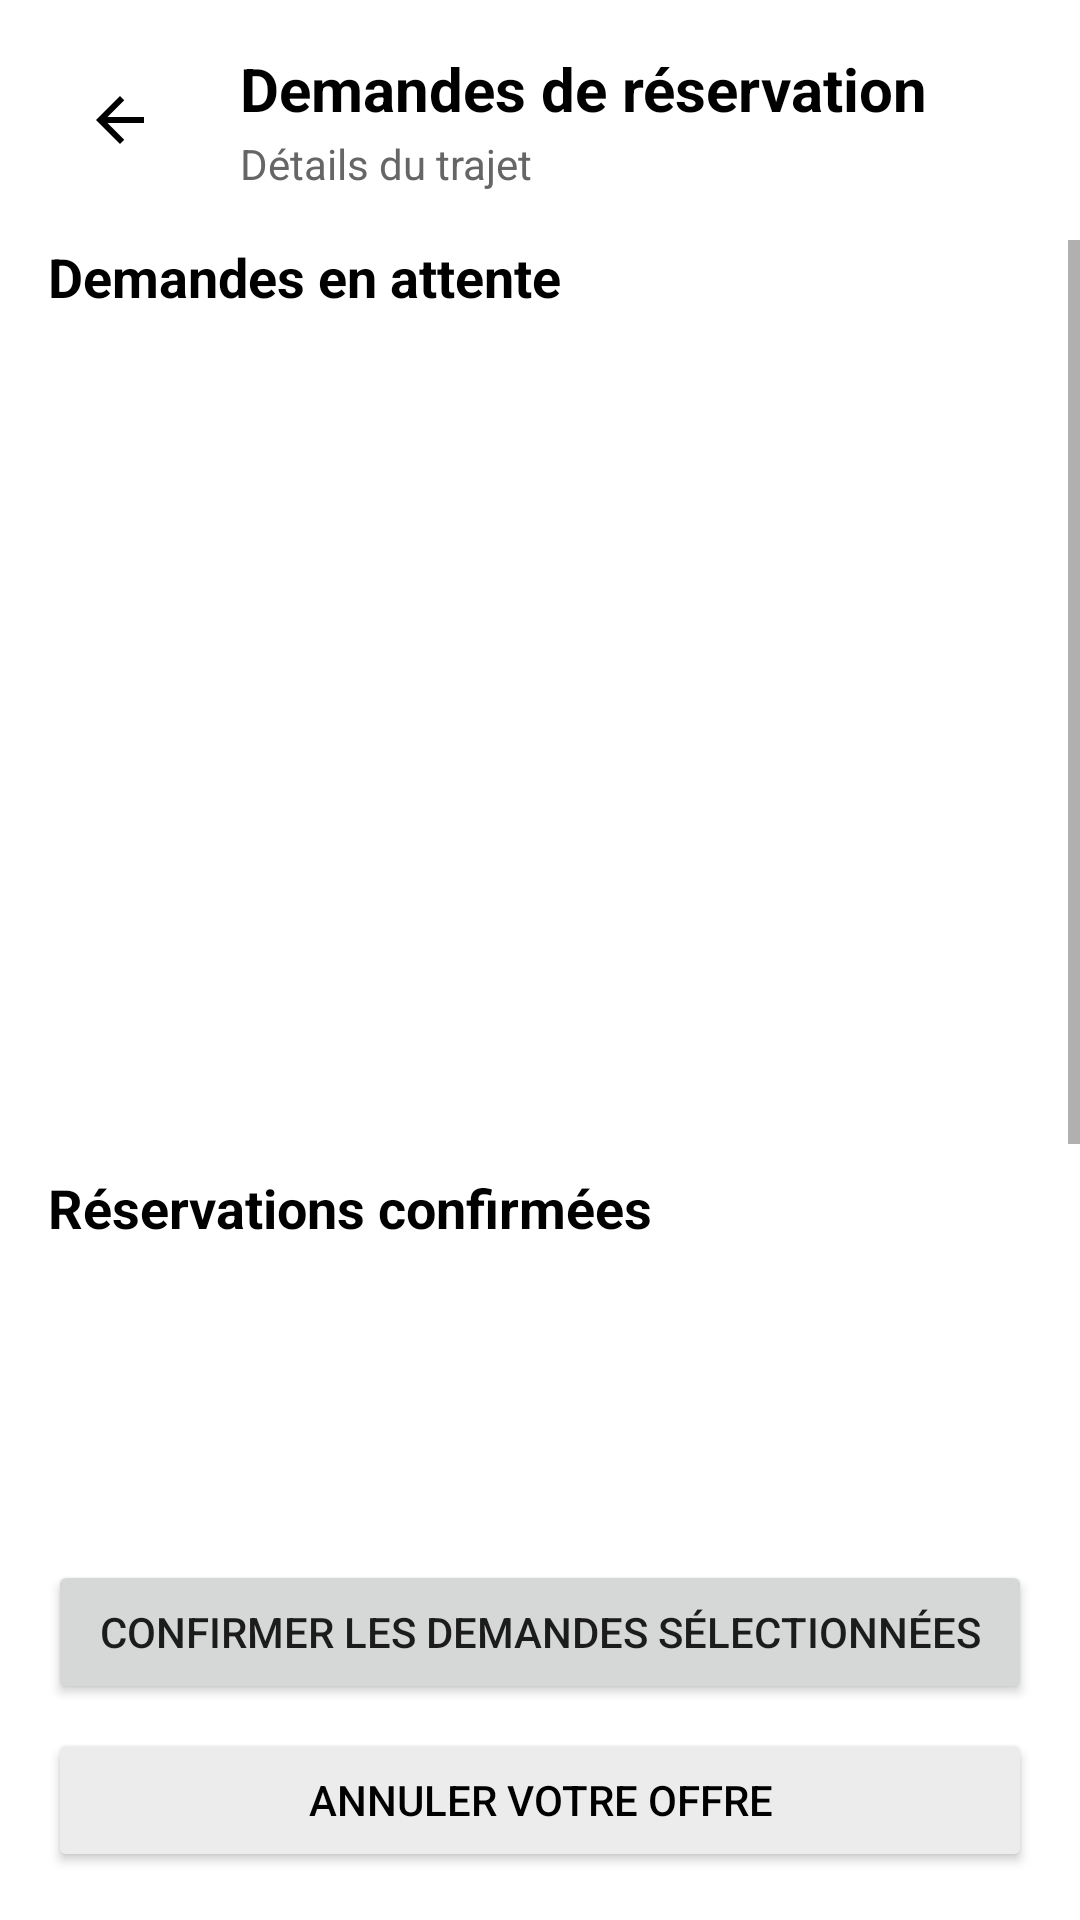

Locate icon controls on the screen. Image size 1080px x 1920px, boxes as BBox(x1, y1, x2, y2).
Go back: BBox(96, 96, 144, 144)
